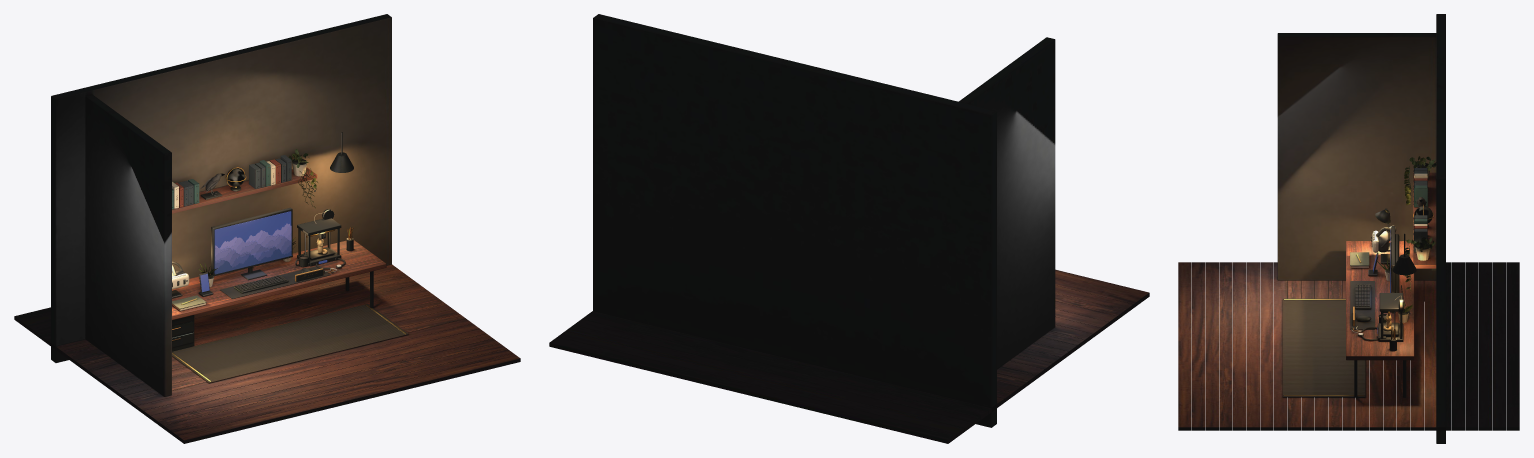
The model's file is office-desktop.glb.
The picture shows the model from 3 angles, left to right: view 1: azimuth 30°, elevation 25°; view 2: azimuth 150°, elevation 25°; view 3: azimuth 270°, elevation 25°; orthographic projection. The views are drawn at different scales.
Parts seen in each view (by area): view 1: architecture, furniture, projects, design; view 2: architecture; view 3: architecture, furniture, design, projects, vr.
Boxes of the visible parts, bbox=[...] form: architecture: bbox=[14, 14, 520, 443]; furniture: bbox=[172, 132, 406, 381]; projects: bbox=[211, 207, 292, 280]; design: bbox=[297, 209, 341, 266]; architecture: bbox=[549, 14, 1149, 443]; architecture: bbox=[1178, 14, 1519, 443]; furniture: bbox=[1284, 156, 1436, 397]; design: bbox=[1376, 293, 1403, 341]; projects: bbox=[1390, 226, 1410, 313]; vr: bbox=[1371, 225, 1396, 263].
Size of the model in its own units: 8 by 6.1 by 6.99.
8 materials, 8 textured.
